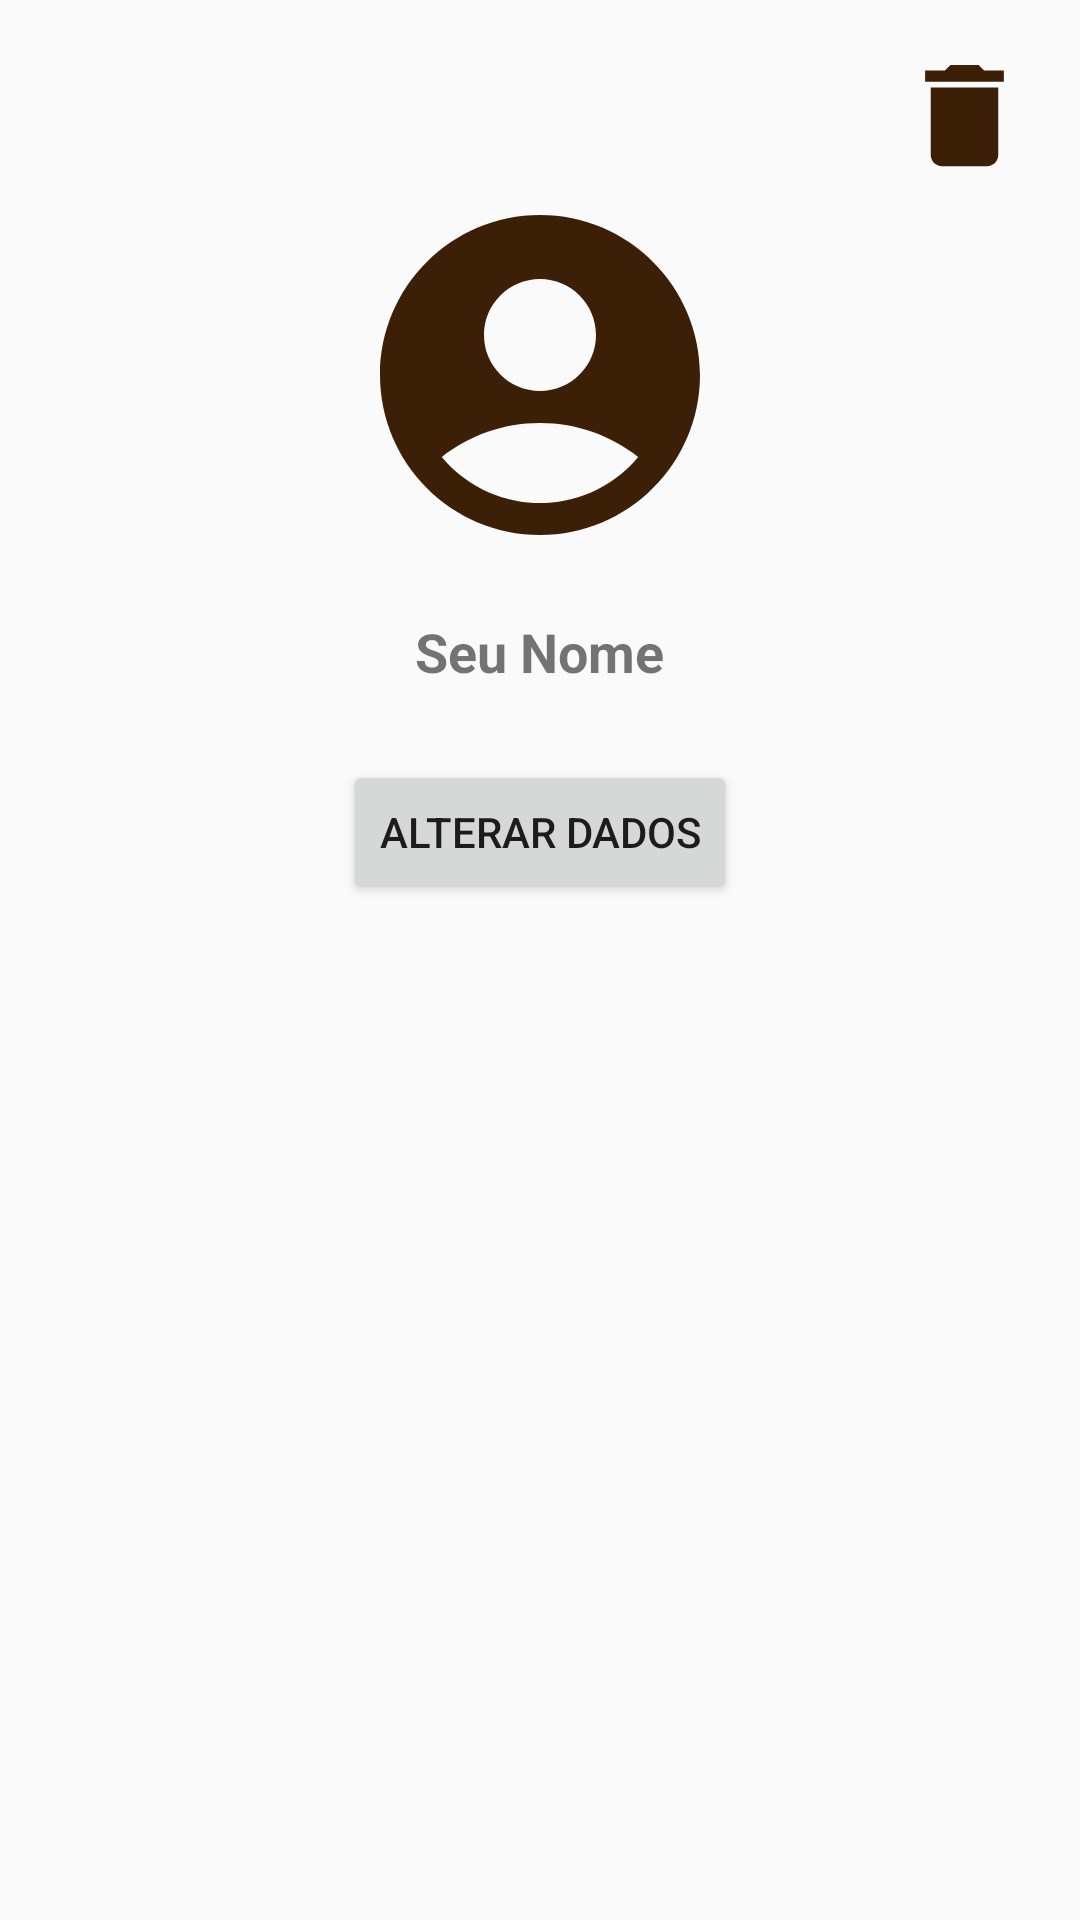

Locate icon controls on the screen. Image size 1080 x 1920, boxes as (x1, y1, x2, y2).
delete trash: (925, 65, 1004, 167)
person account: (380, 215, 700, 535)
